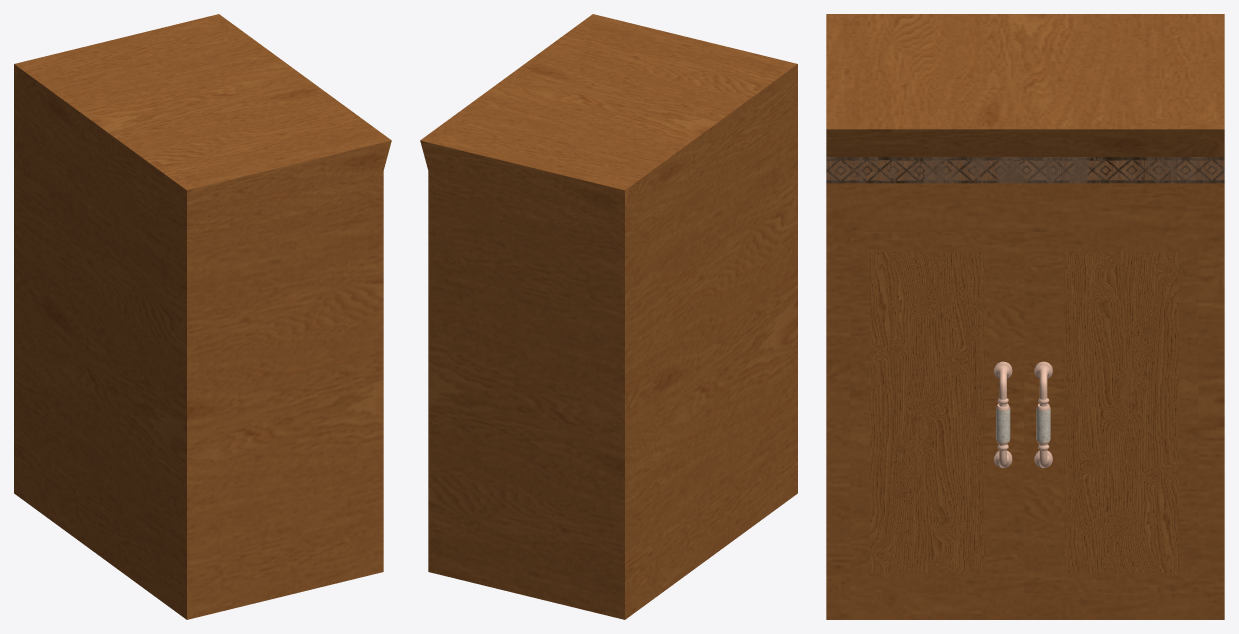
File: TopCabinet_Middle.fbx
3 renders of one model, left to right at view 1: azimuth 30°, elevation 25°; view 2: azimuth 150°, elevation 25°; view 3: azimuth 270°, elevation 25°, orthographic. The views are drawn at different scales.
Parts seen in each view (by area): view 1: pCube178, Top_middle; view 2: pCube178, Top_middle; view 3: Top_middle, pCube188, pCube189, pCube178, pCylinder104, pCylinder103.
Boxes of the visible parts, box(x1,y1,x2,y2) form: pCube178: box(14, 133, 383, 619); Top_middle: box(14, 14, 391, 259); pCube178: box(428, 133, 797, 619); Top_middle: box(420, 14, 797, 259); Top_middle: box(826, 14, 1224, 204); pCube188: box(1024, 232, 1198, 592); pCube189: box(850, 232, 1024, 592); pCube178: box(826, 204, 1224, 619); pCylinder104: box(1034, 361, 1052, 468); pCylinder103: box(994, 361, 1012, 468).
Bounding box in the file's own units: 0.618 × 1.14 × 0.832.
